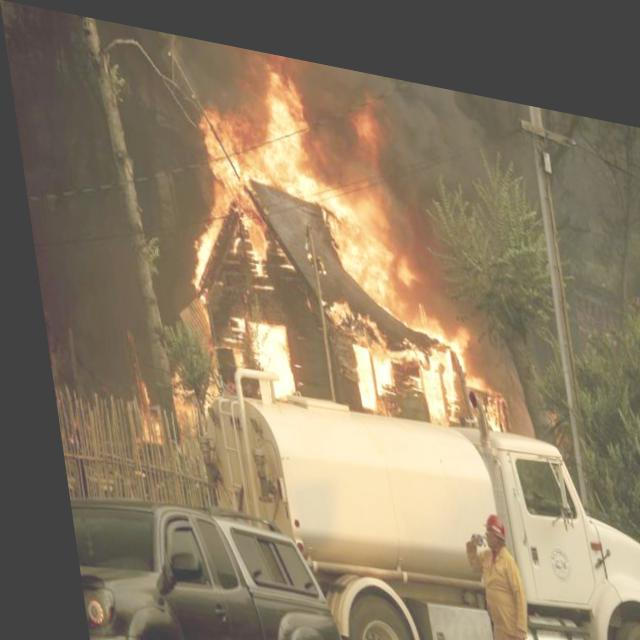Fire: (80, 23, 514, 502)
